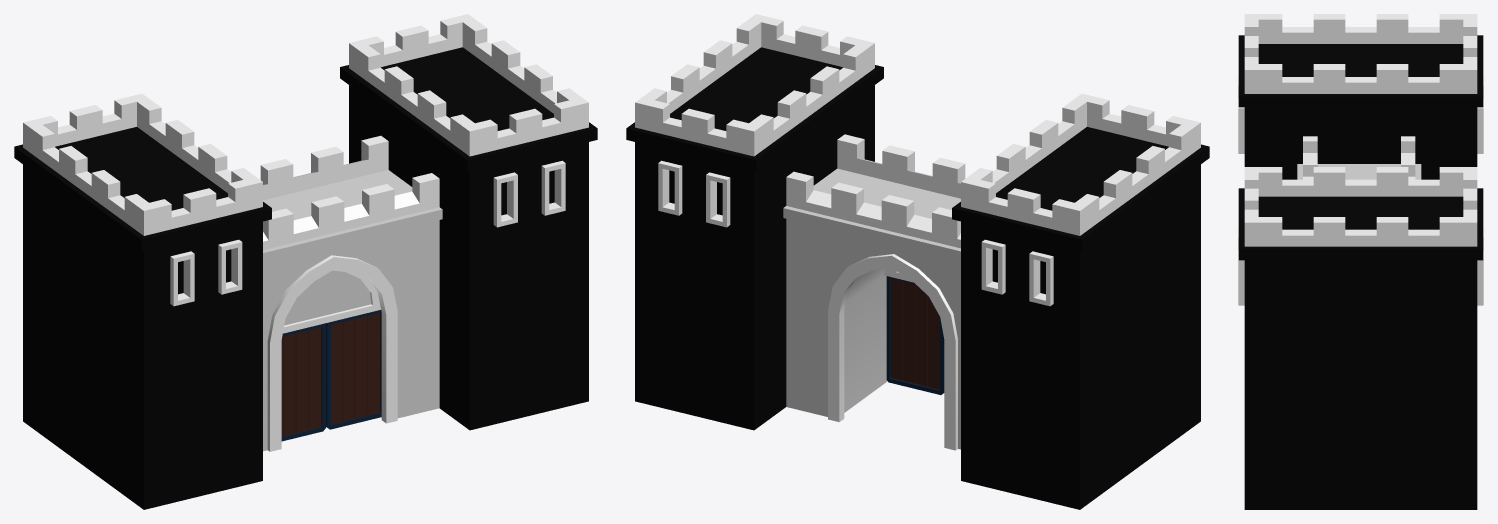
Rendered from castle_gate_b.FBX.
The picture shows the model from 3 angles, left to right: view 1: azimuth 30°, elevation 25°; view 2: azimuth 150°, elevation 25°; view 3: azimuth 270°, elevation 25°; orthographic projection. The views are drawn at different scales.
Visible parts, largest first — view 1: castle_gate_b; view 2: castle_gate_b; view 3: castle_gate_b.
Part boxes in pixels (<box>): castle_gate_b: <box>14,14,597,509</box>; castle_gate_b: <box>626,14,1209,509</box>; castle_gate_b: <box>1238,14,1483,509</box>.
Bounding box in the file's own units: 3486 × 2183 × 1687.
